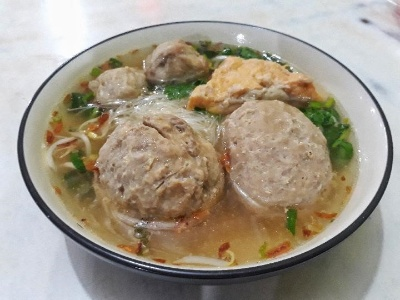bakso: (89, 39, 336, 222)
